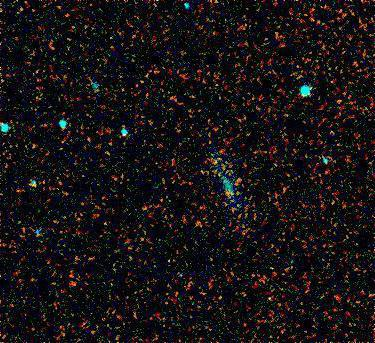star: (223, 162, 253, 192)
